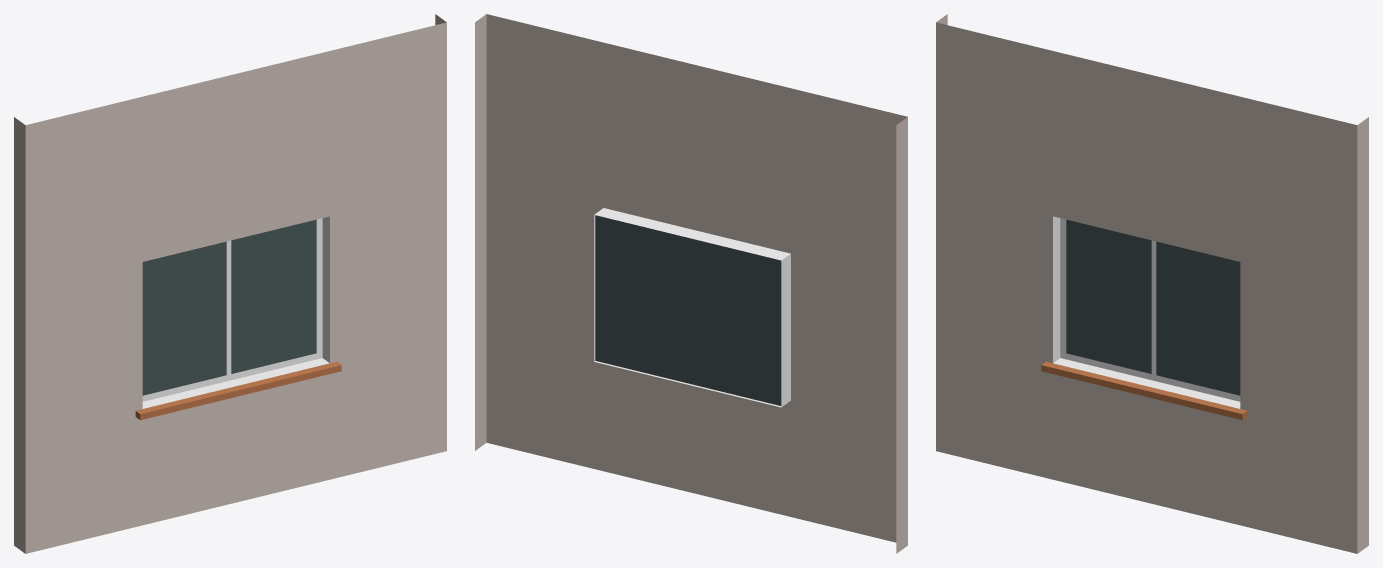
Rendered from top-stair3.fbx.
3 renders of one model, left to right at view 1: azimuth 30°, elevation 25°; view 2: azimuth 150°, elevation 25°; view 3: azimuth 330°, elevation 25°, orthographic.
Parts seen in each view (by area): view 1: a2000s2/200/top-stair; view 2: a2000s2/200/top-stair; view 3: a2000s2/200/top-stair.
Part boxes in pixels (x1,y1,x2,y2): a2000s2/200/top-stair: [14, 14, 446, 553]; a2000s2/200/top-stair: [475, 14, 907, 553]; a2000s2/200/top-stair: [936, 14, 1368, 553].
Bounding box in the file's own units: 3.6 × 3.5 × 0.24.
